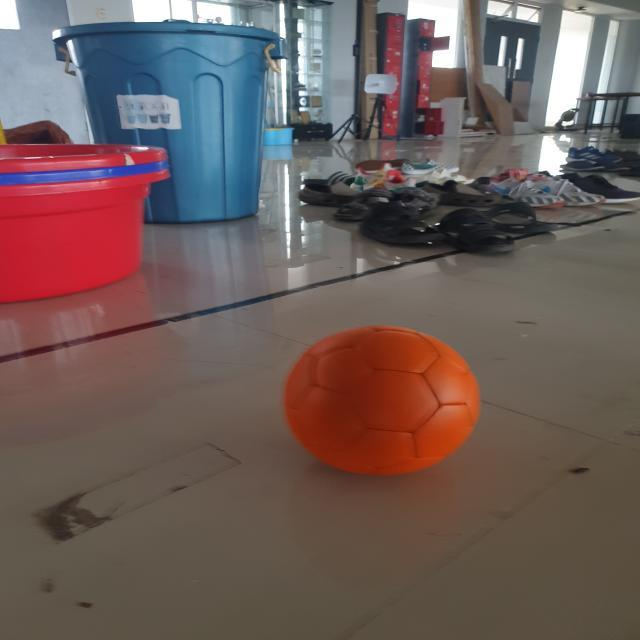bola: (275, 322, 485, 479)
